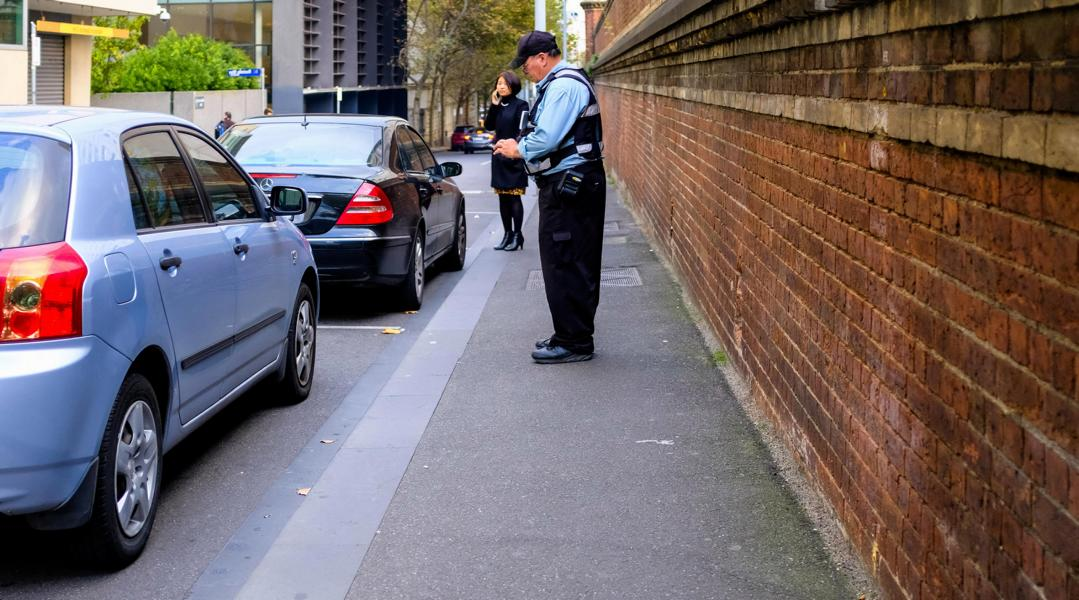Car: (4, 103, 325, 569), (220, 106, 473, 315)
Person: (507, 31, 616, 381), (482, 70, 533, 253)
